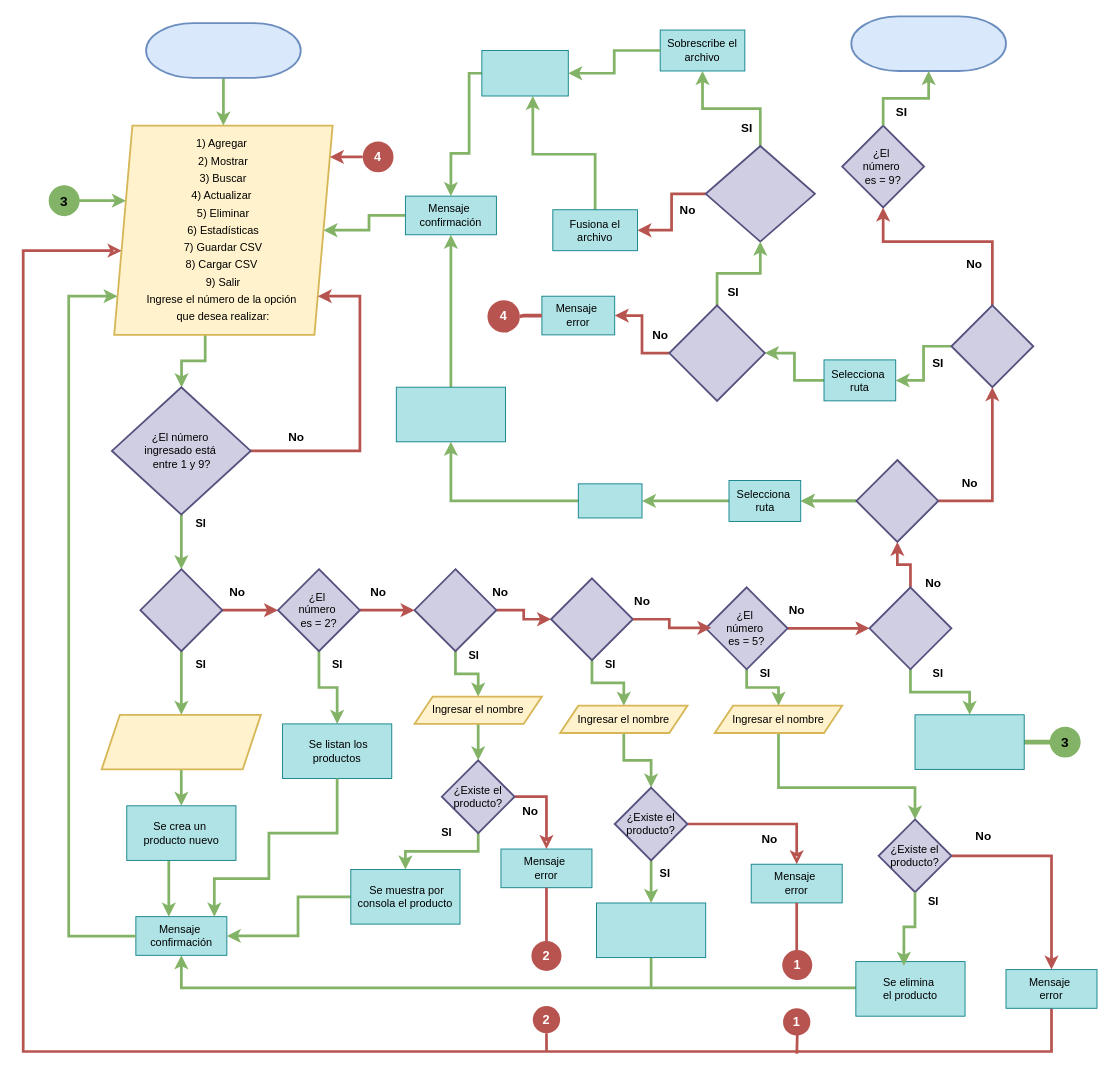
Some shapes in this 1113 by 1076 pixel diagram are drawn without their labels. Here are the shapes that lost their labels. From the top down, the centre of each, then its label:
At [223,50]: "Inicio".
At [928,43]: "Fin".
At [524,73]: "Actualiza inventario".
At [759,193]: "¿Sobreescribir ?".
At [716,352]: "¿El formato es válido?".
At [992,346]: "¿El número es = 8?".
At [450,414]: "Escribe/Guarda".
At [609,500]: "Validar".
At [897,500]: "¿El número es = 7?".
At [181,610]: "¿El número es = 1?".
At [455,610]: "¿El número es = 3?".
At [591,619]: "¿El número es = 4?".
At [910,628]: "¿El número es = 6?".
At [180,741]: "Ingresar nombre, precio, cantidad".
At [969,741]: "Se muestran por consola las estadísticas".
At [651,930]: "Se actualiza el producto".
